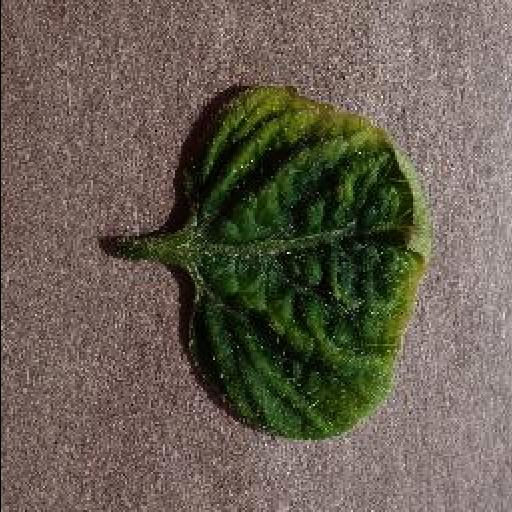disease_tomato: (182, 83, 428, 444)
